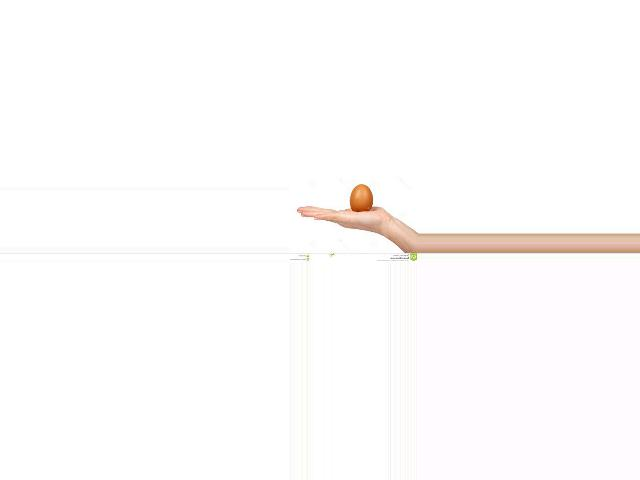egg: (349, 184, 372, 212)
